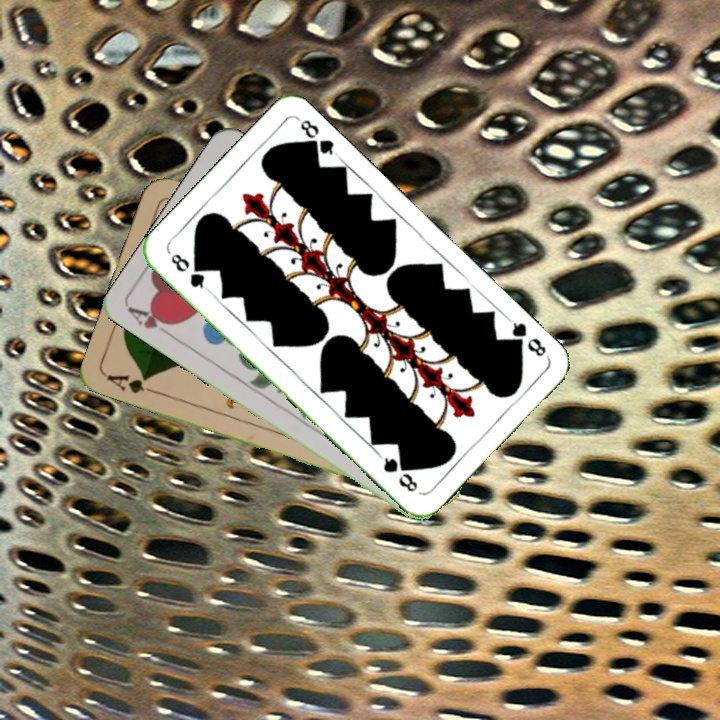G8: (504, 314, 551, 360), (166, 249, 212, 294)
GA: (102, 370, 161, 397)
HA: (125, 303, 179, 342)
